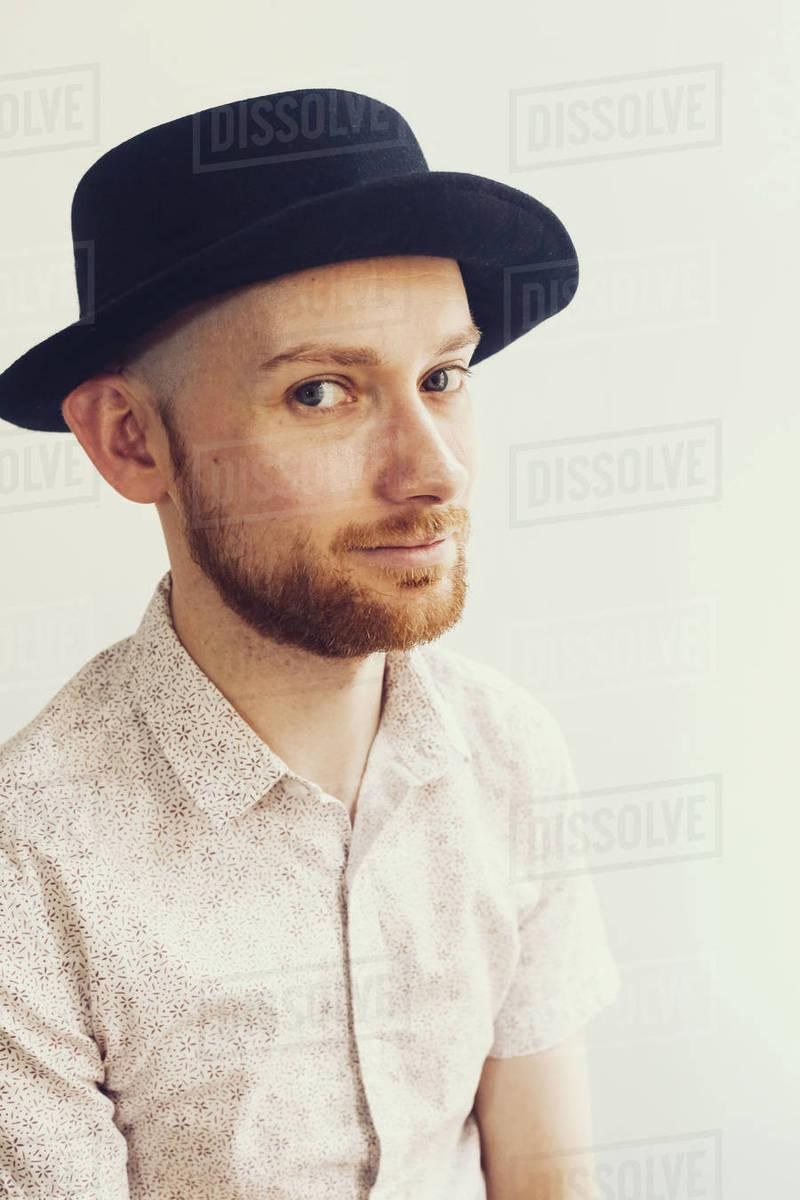cap: (0, 53, 610, 433)
